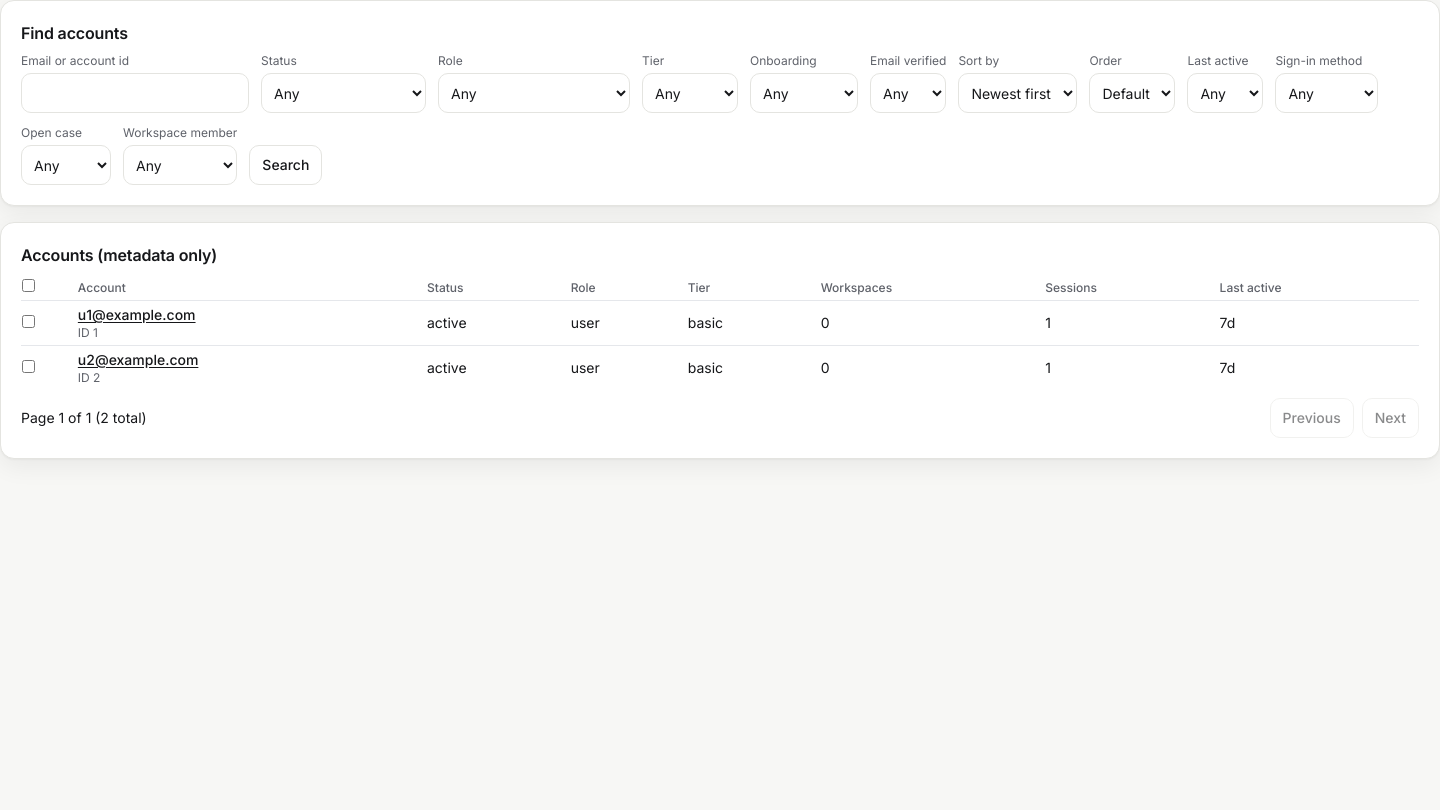
Test: preview, confirm, result › a server refusal (stale preview) is shown in the dialog and not retried
Expected: the link "u1@example.com" is shown, [78, 306, 196, 323]
Click the checkbox named "Select account 1" at {"x": 28, "y": 322}, box [22, 315, 35, 328]
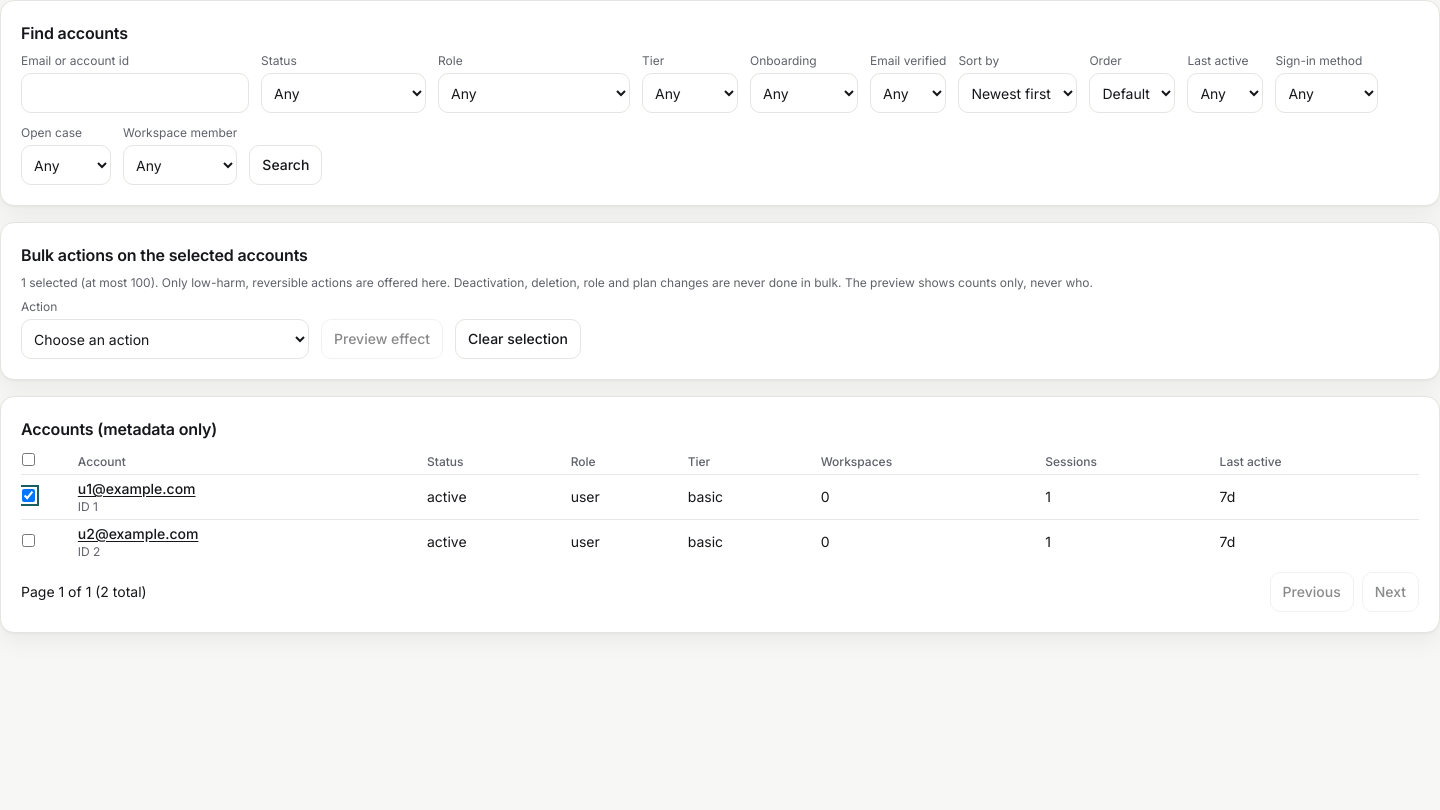
Click the checkbox named "Select account 2" at {"x": 28, "y": 540}, box [22, 534, 35, 547]
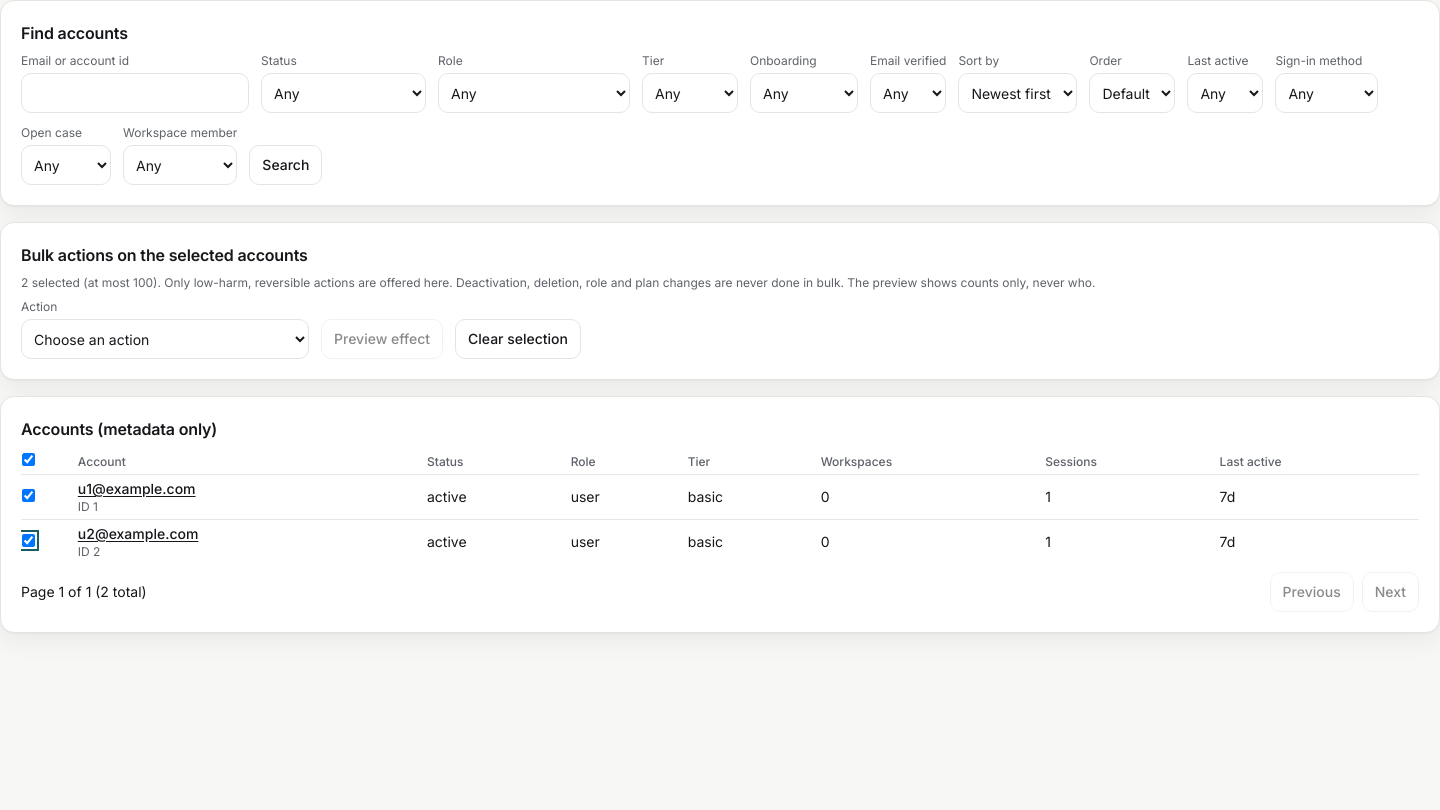
Select "Force sign-out" in the dropdown labelled "Action" at {"x": 165, "y": 339}, box [21, 319, 309, 359]
Click the button "Preview effect" at {"x": 382, "y": 339}, box [321, 319, 443, 359]
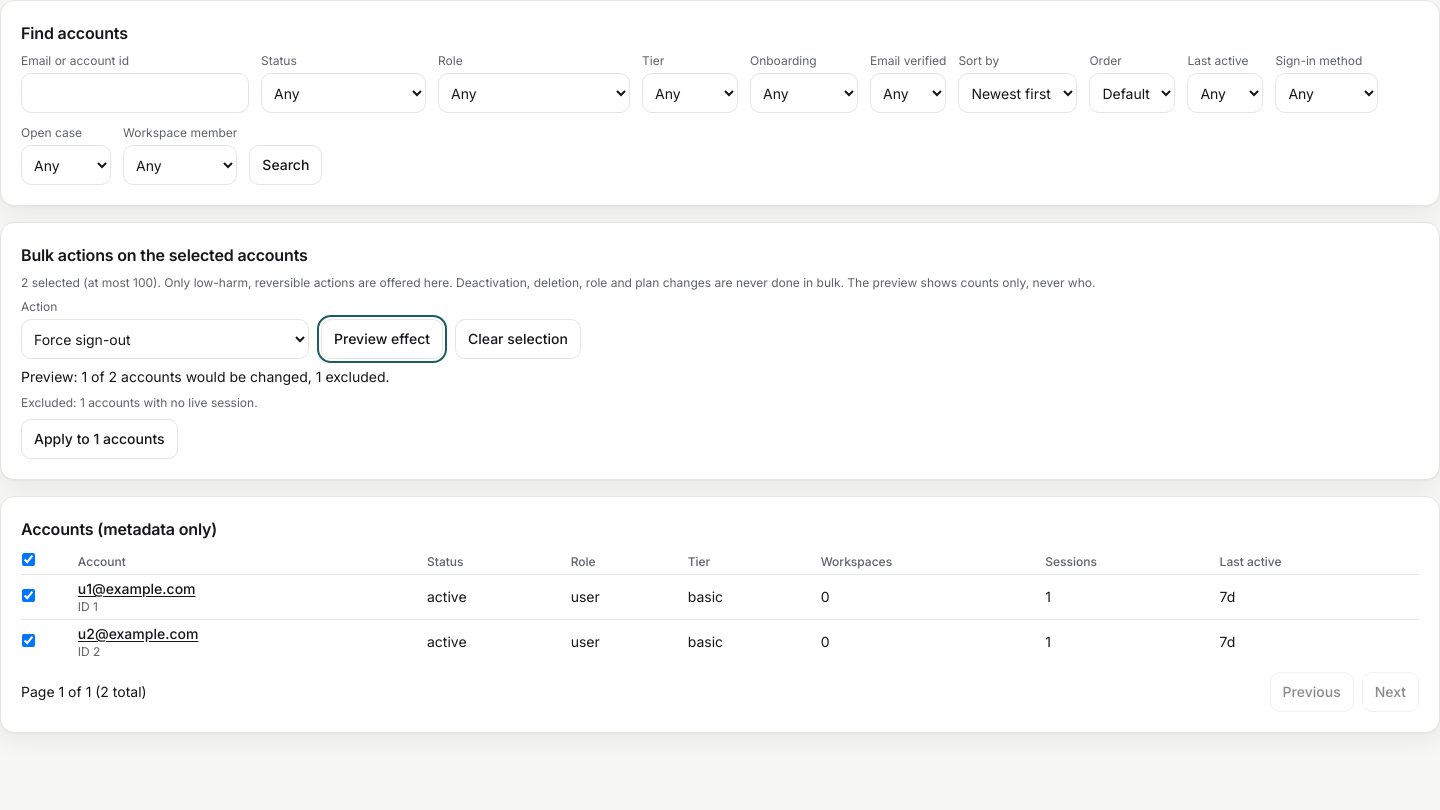
Click the button "Apply to 1 accounts" at {"x": 99, "y": 439}, box [21, 419, 178, 459]
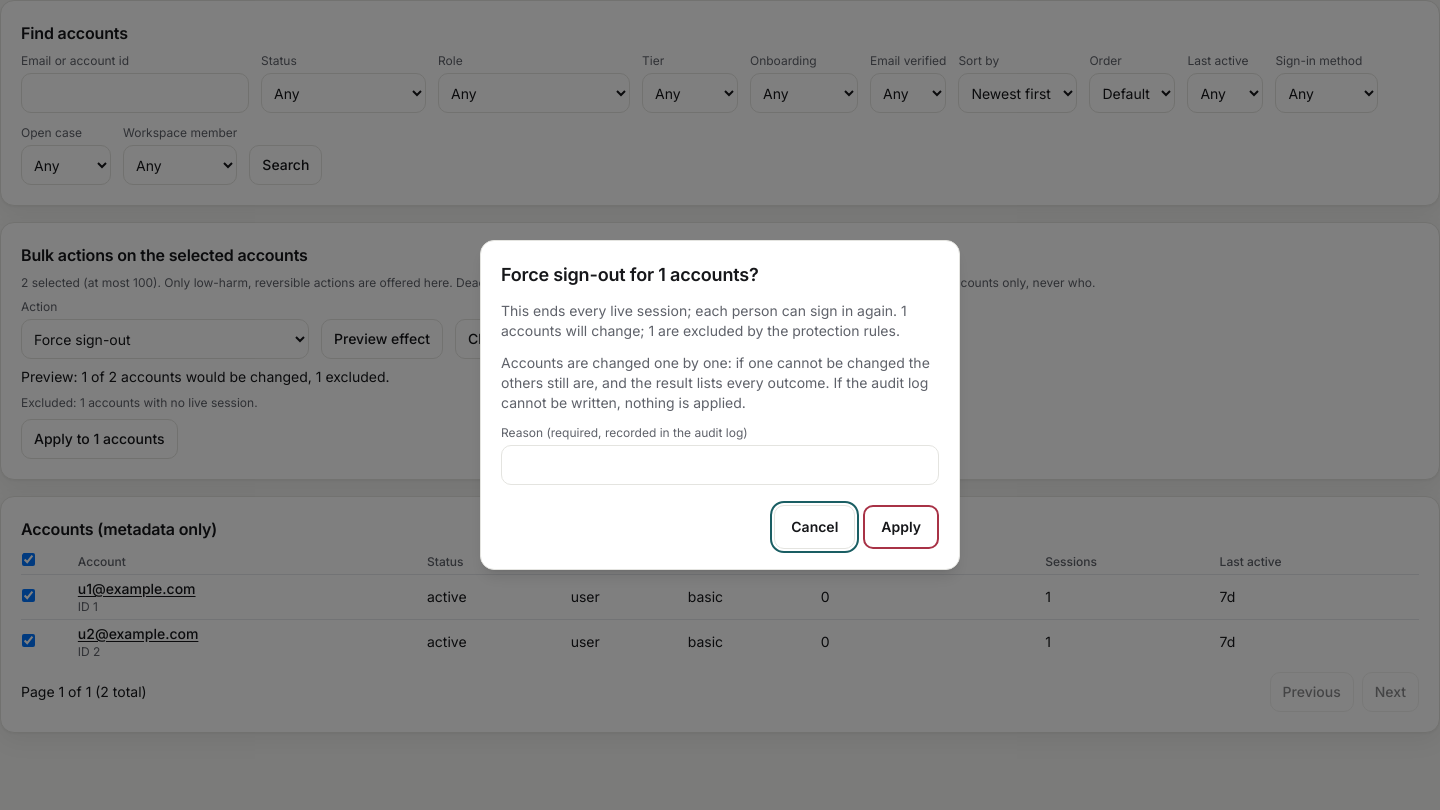
Type "operator review" into the field labelled "Reason (required, recorded in the audit log)" at {"x": 720, "y": 465}, box [501, 445, 939, 485]
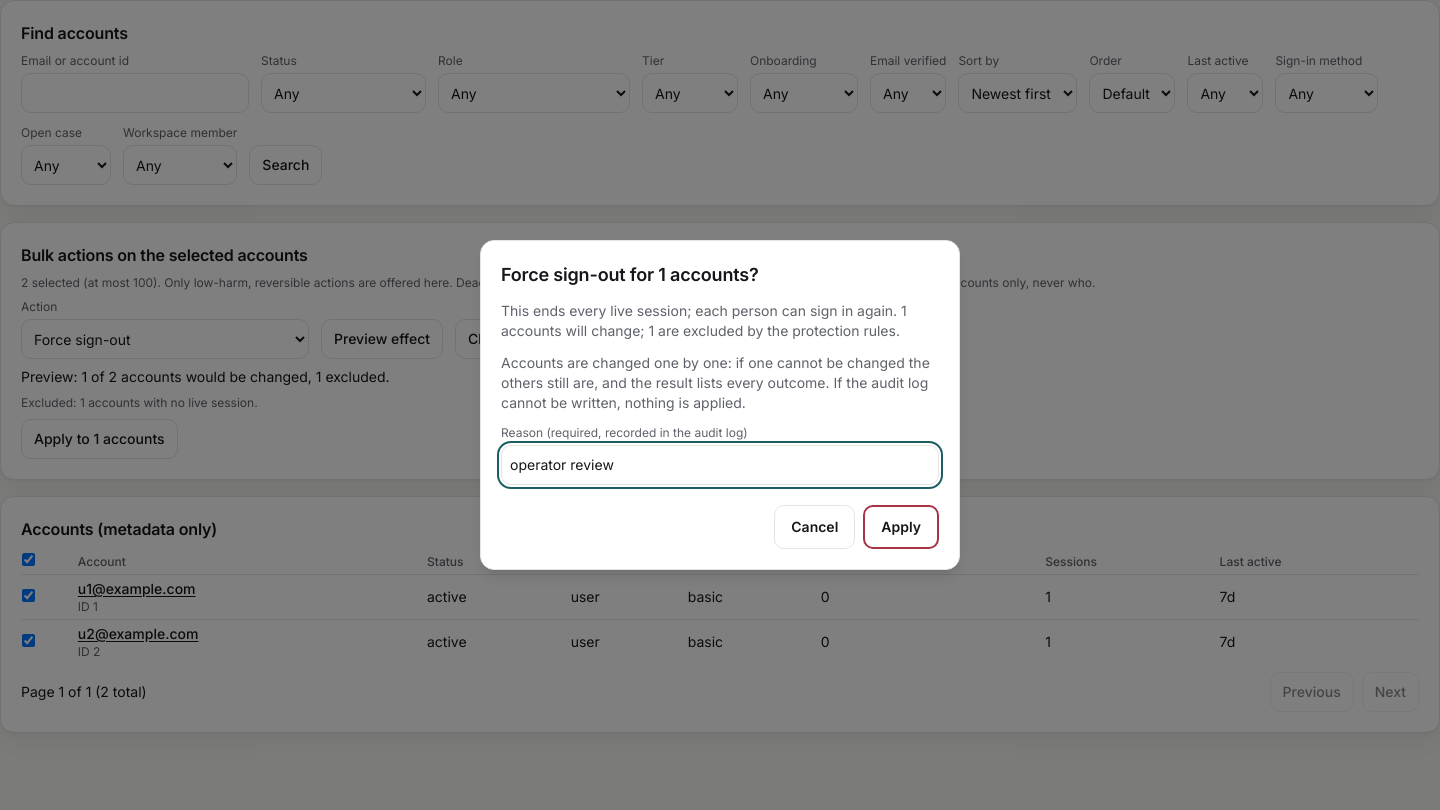
Click the button "Apply" at {"x": 901, "y": 527}, box [863, 505, 939, 549]
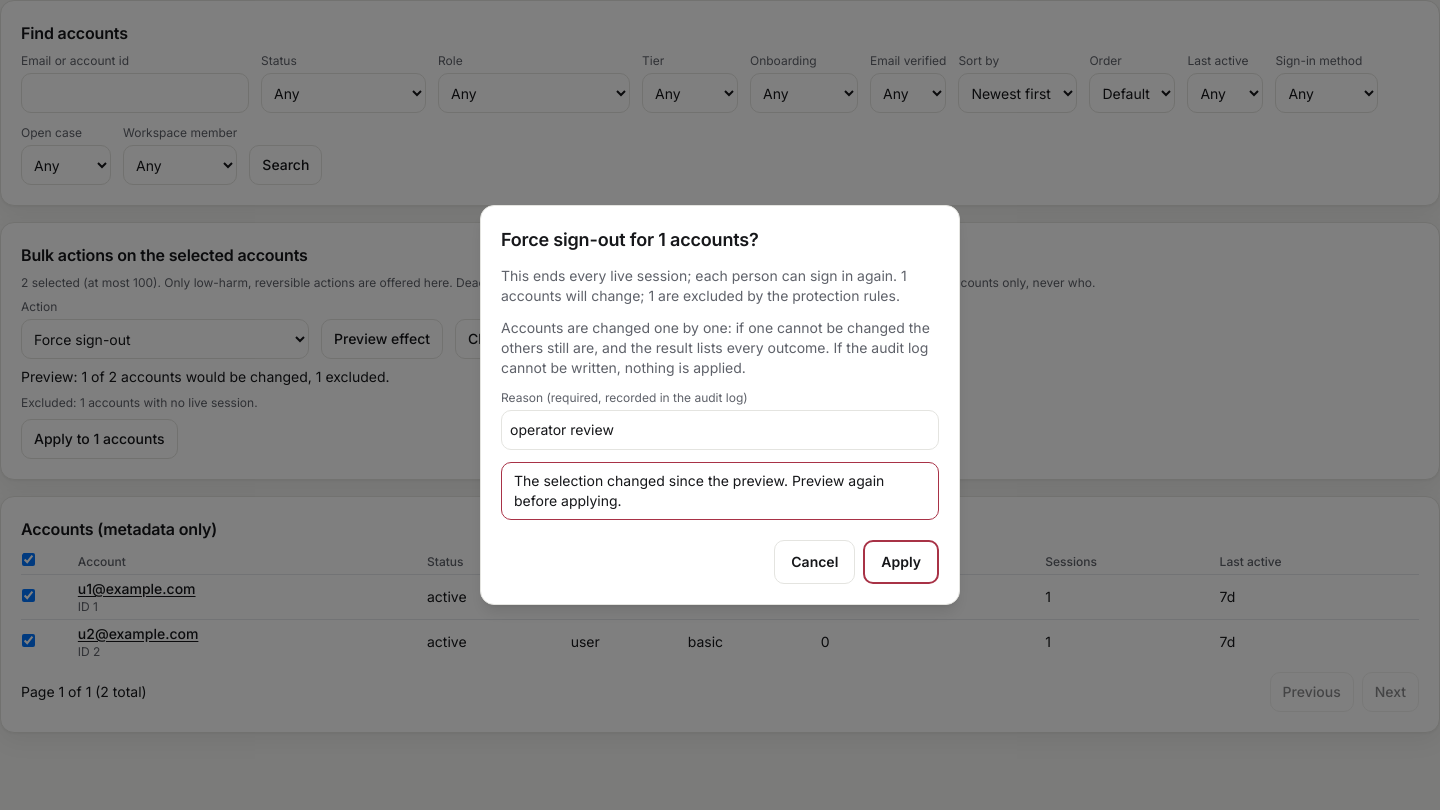
Expected: the message shows "changed since the preview", [514, 472, 884, 509]
